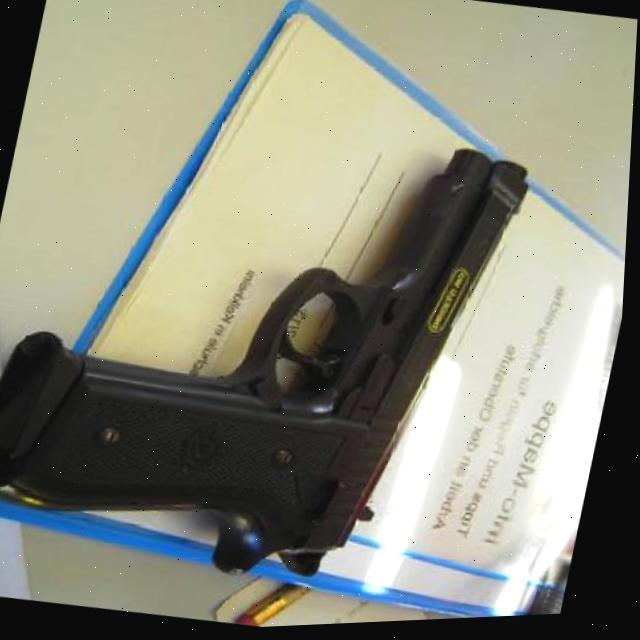gun: (0, 79, 547, 621)
